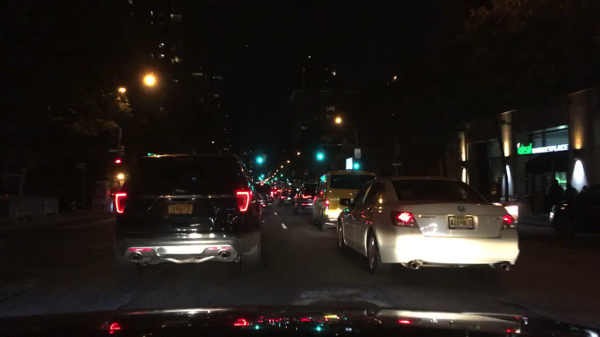car: (336, 173, 521, 287), (113, 153, 264, 275), (310, 169, 377, 231), (548, 181, 598, 238), (40, 191, 79, 212), (292, 182, 318, 213), (254, 183, 268, 213), (279, 188, 297, 206), (260, 183, 274, 202), (352, 161, 360, 170)
person: (563, 180, 578, 217), (547, 176, 562, 212)
traffic light: (255, 153, 263, 169), (316, 150, 324, 163)
traffic sign: (353, 148, 361, 159)
